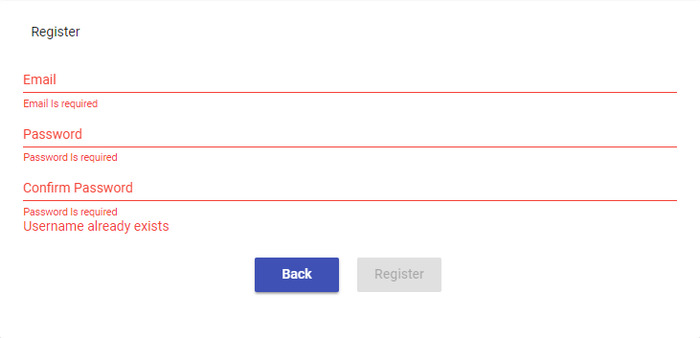error_field: (21, 72, 680, 94), (21, 128, 680, 149), (21, 181, 678, 202)
error_message: (21, 206, 172, 233), (22, 151, 119, 164), (21, 97, 100, 109)
